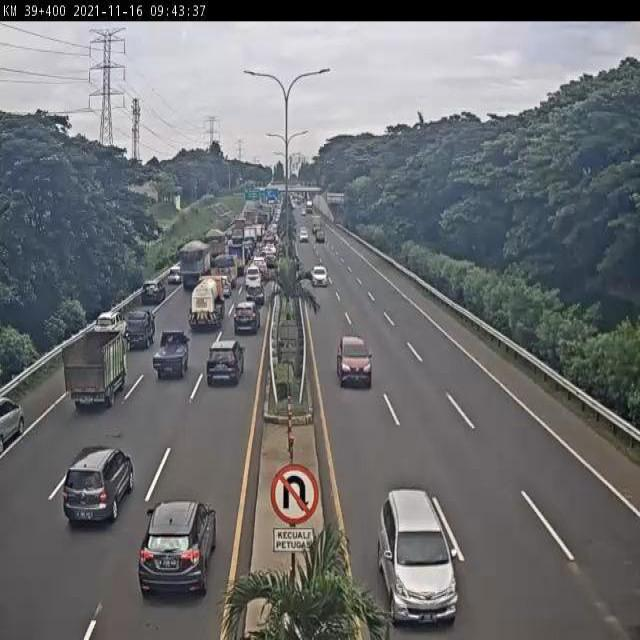car: (373, 481, 464, 628), (130, 500, 224, 615), (62, 444, 136, 531), (149, 329, 192, 384), (203, 338, 246, 390), (335, 336, 371, 384), (121, 308, 155, 355), (233, 300, 262, 337), (136, 280, 165, 308), (244, 280, 267, 307), (244, 264, 262, 291), (213, 274, 233, 298), (165, 265, 183, 288), (311, 264, 328, 288), (252, 252, 270, 273), (263, 251, 279, 268), (314, 228, 324, 243), (298, 228, 308, 241)
small truck: (60, 322, 128, 414), (215, 258, 238, 290), (226, 244, 246, 276)
truck-m-: (189, 276, 226, 339), (176, 240, 213, 291), (203, 227, 229, 261)
